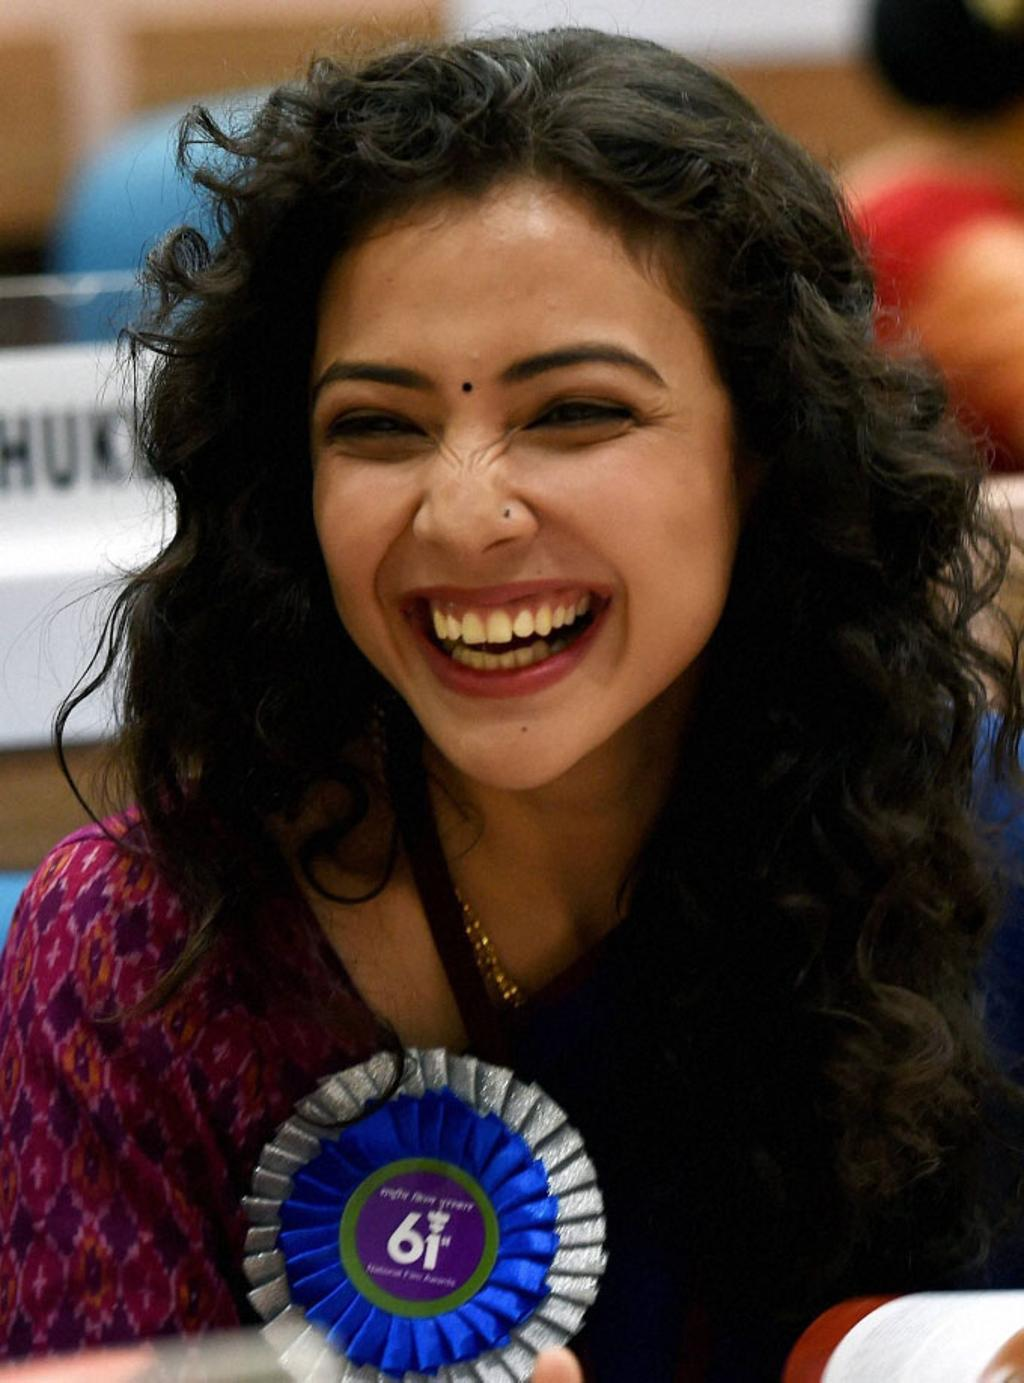face: (303, 170, 752, 786)
